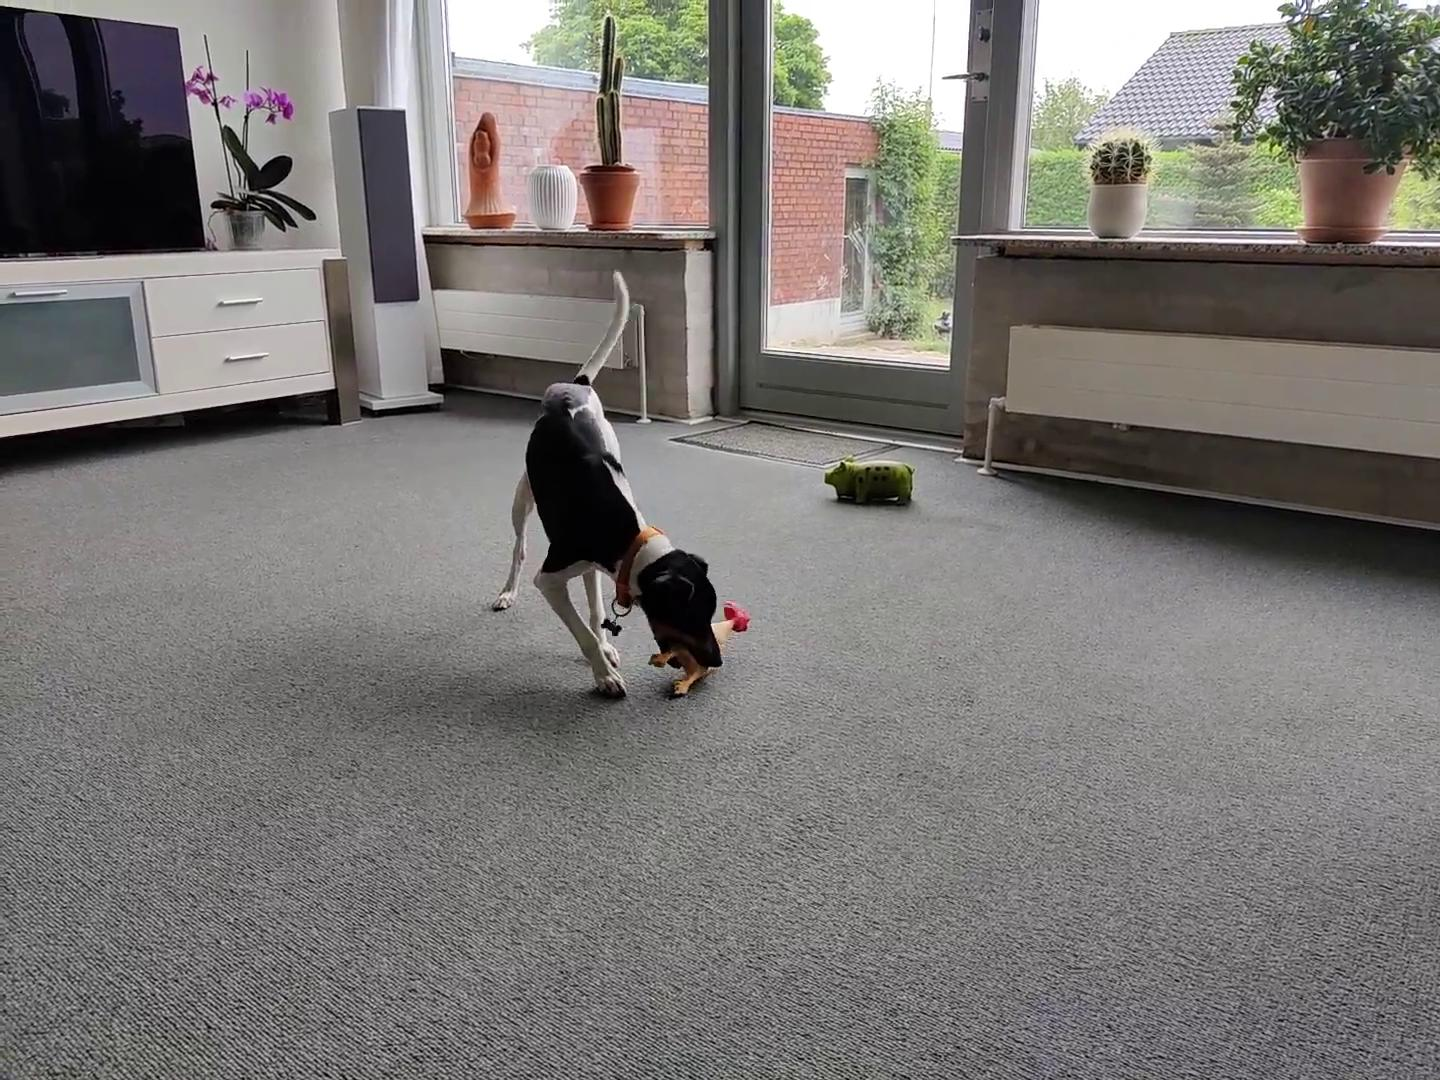Dog: (488, 267, 725, 704)
